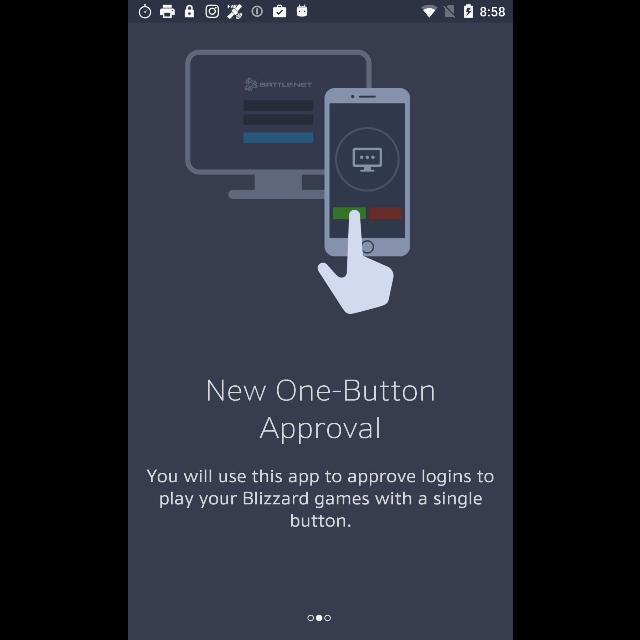image: (184, 49, 410, 314)
pageindicator: (306, 614, 330, 622)
text: (145, 469, 493, 527), (207, 380, 433, 444)
uppertaskbar: (128, 1, 512, 23)
